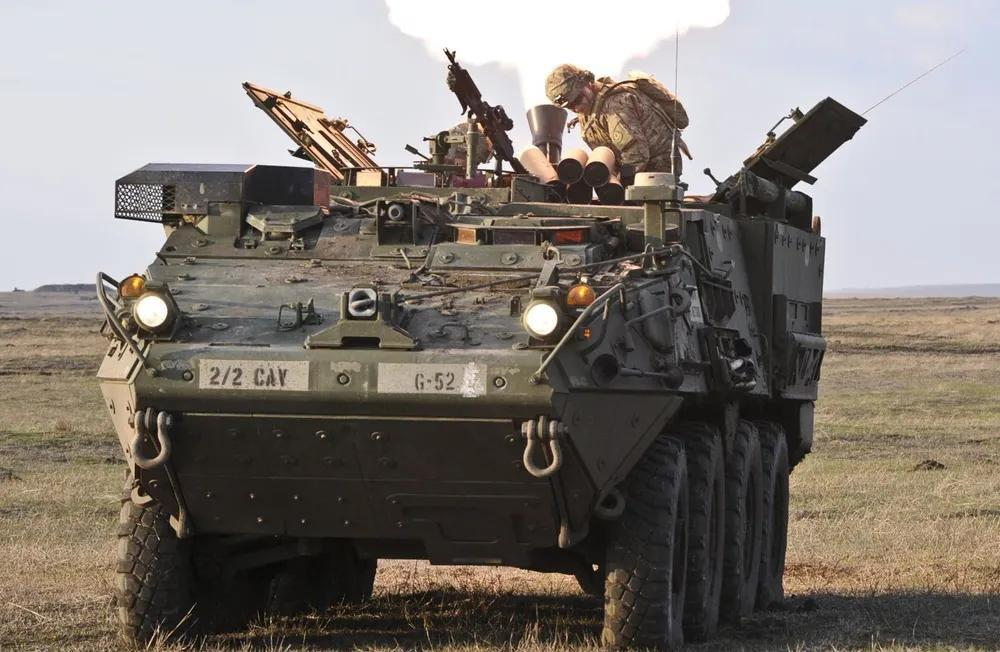MIL_IFV: (93, 64, 868, 648)
